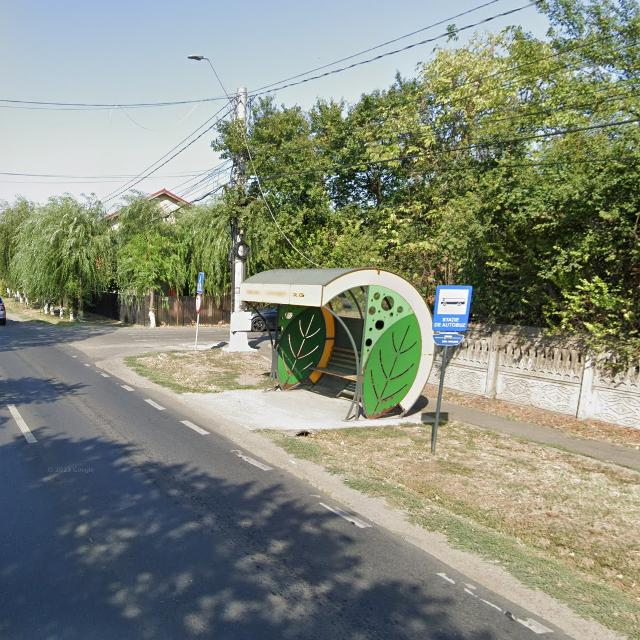info_bus_station: (433, 285, 472, 334)
